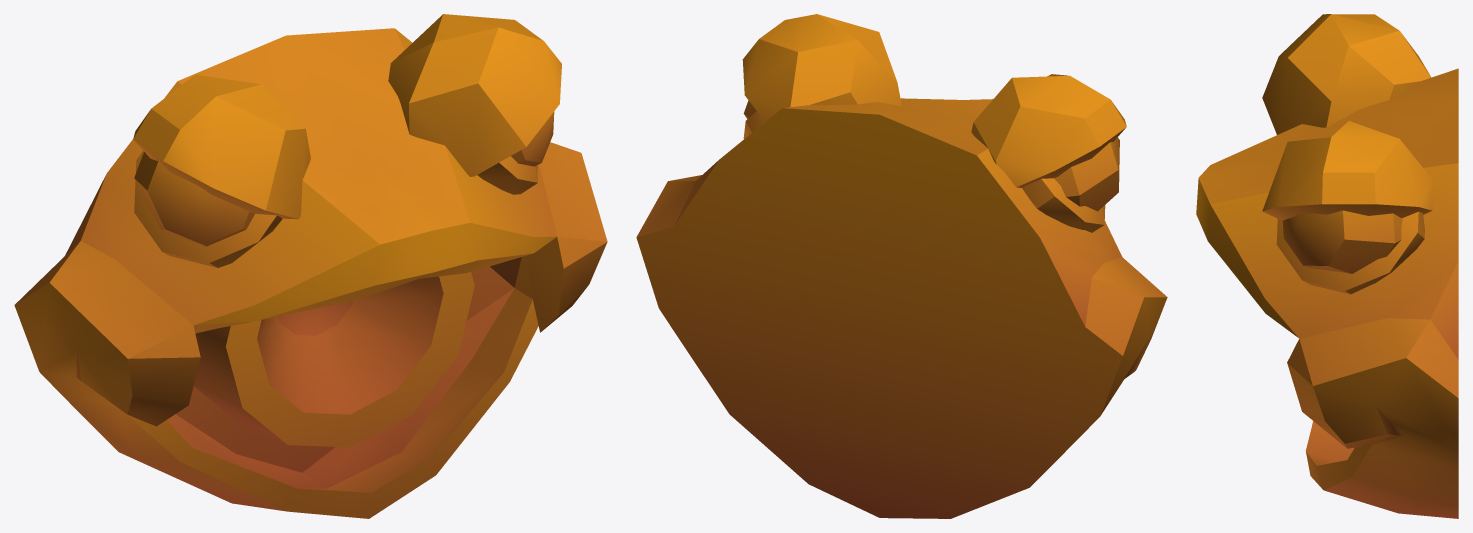
File: wall_decor_1.glb
3 renders of one model, left to right at view 1: azimuth 30°, elevation 25°; view 2: azimuth 150°, elevation 25°; view 3: azimuth 270°, elevation 25°, orthographic. The views are drawn at different scales.
Parts seen in each view (by area): view 1: wall_decor_1; view 2: wall_decor_1; view 3: wall_decor_1.
Part boxes in pixels (left/top/right/bottom): wall_decor_1: left=14, top=14, right=607, bottom=518; wall_decor_1: left=636, top=14, right=1167, bottom=518; wall_decor_1: left=1196, top=14, right=1458, bottom=518.
Size of the model in its own units: 0.8932 by 0.7479 by 0.4186.
Materials: 1 (1 with a texture image).
